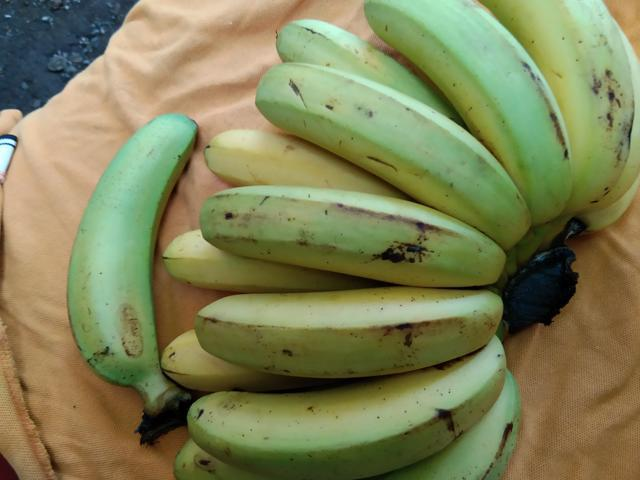freshripe: (55, 107, 203, 381)
ripe: (261, 58, 516, 234), (189, 265, 500, 383), (487, 1, 639, 238), (172, 186, 508, 289)
